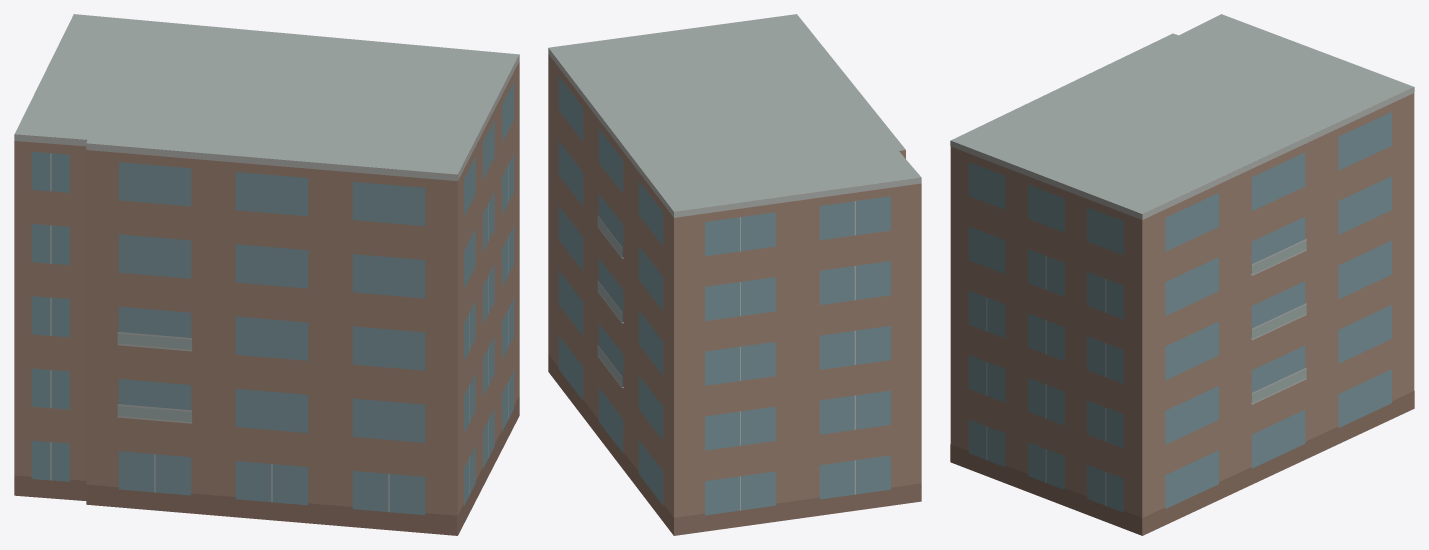
Rendered from survey-upis-32456480.glb.
3 views of the same model, side by side, from view 1: azimuth 30°, elevation 25°; view 2: azimuth 150°, elevation 25°; view 3: azimuth 270°, elevation 25° (orthographic). The views are drawn at different scales.
Visible parts, largest first — view 1: survey-upis-32456480.tmp; view 2: survey-upis-32456480.tmp; view 3: survey-upis-32456480.tmp.
Boxes of the visible parts, x1,y1,x2,y2 form: survey-upis-32456480.tmp: [14, 14, 519, 535]; survey-upis-32456480.tmp: [548, 14, 921, 535]; survey-upis-32456480.tmp: [950, 14, 1414, 535].
Size of the model in its own units: 17.76 by 13.3 by 17.39.
